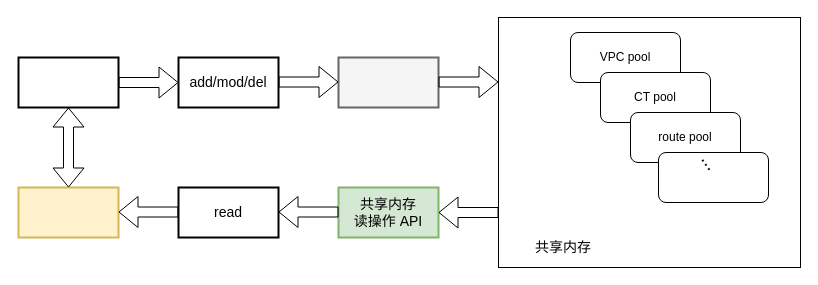
Image size: 818x285. Some labels were removed from this diagram. Here are the shapes that lost their labels. From the top down, the centre of each, then its label:
At point (68, 82): "ctrl thread".
At point (388, 82): "socket + pb".
At point (68, 212): "agent/monitor".
